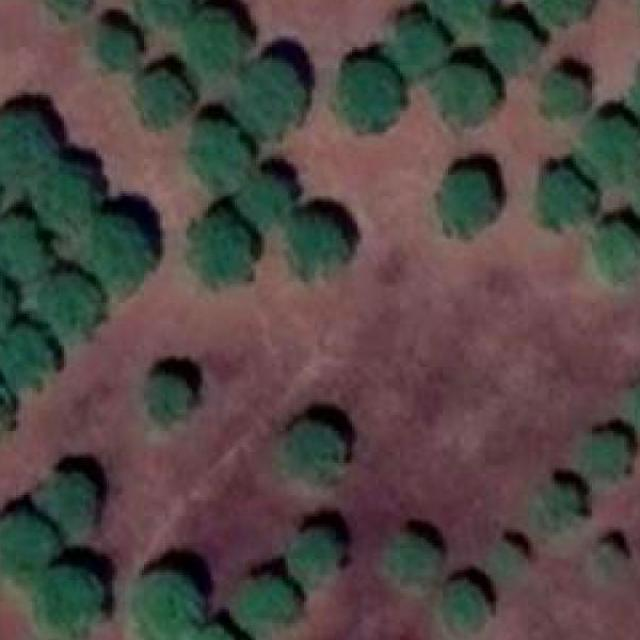Tree: (80, 216, 151, 289), (432, 52, 501, 123), (187, 215, 256, 286), (240, 66, 309, 131), (44, 562, 106, 634), (237, 568, 306, 632), (334, 63, 397, 133), (139, 569, 198, 640), (441, 164, 504, 228), (282, 216, 344, 280), (38, 276, 102, 338), (174, 10, 242, 68), (38, 468, 107, 525), (585, 110, 640, 180), (0, 111, 56, 177), (187, 125, 245, 188), (283, 418, 338, 484), (35, 168, 93, 230), (0, 326, 56, 388), (0, 506, 48, 577), (385, 13, 443, 71), (526, 482, 588, 536), (289, 530, 347, 584), (238, 170, 290, 230), (540, 173, 597, 227), (486, 18, 541, 72), (440, 580, 493, 636), (135, 71, 189, 125), (0, 210, 46, 273), (580, 424, 630, 481), (589, 221, 640, 276), (146, 371, 192, 429), (84, 20, 136, 70), (536, 66, 584, 113), (392, 525, 434, 577), (583, 535, 626, 573), (485, 543, 525, 580), (432, 0, 494, 21), (136, 0, 187, 25), (529, 0, 590, 20), (194, 619, 240, 640), (44, 0, 91, 20), (626, 370, 640, 427), (0, 367, 9, 447), (0, 271, 9, 332), (636, 52, 640, 123)
